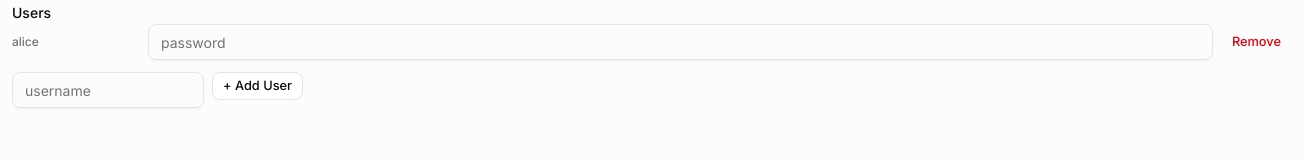
UsersList › removes a user
Check: the text "alice" is shown, box [12,34,39,49]
Click the button "Remove". click: [1256, 42]
box: [1221,28,1292,56]
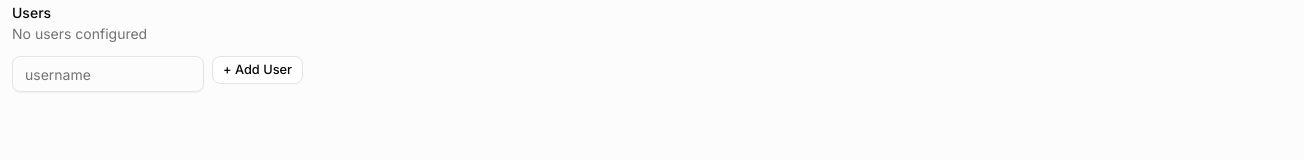
Check: the text "alice" is gone
